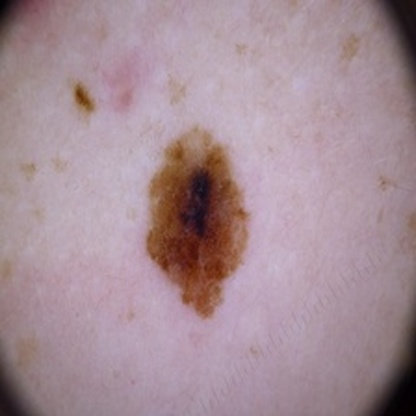benign: (145, 134, 254, 300)
